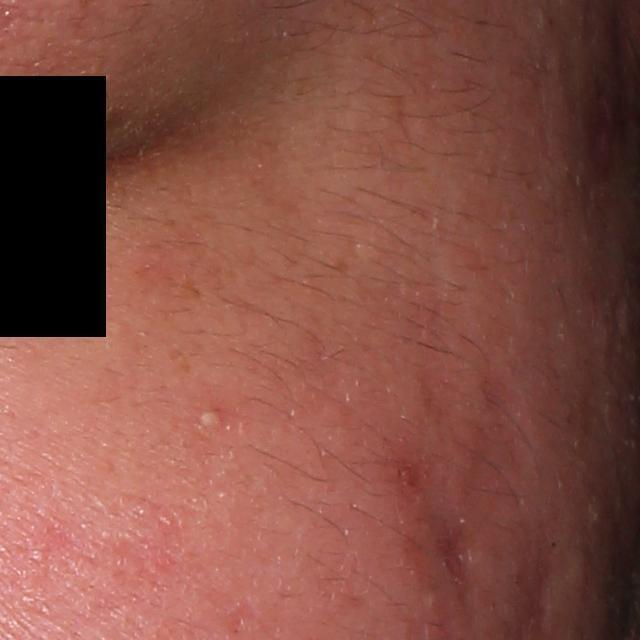pustule: (196, 411, 224, 437)
